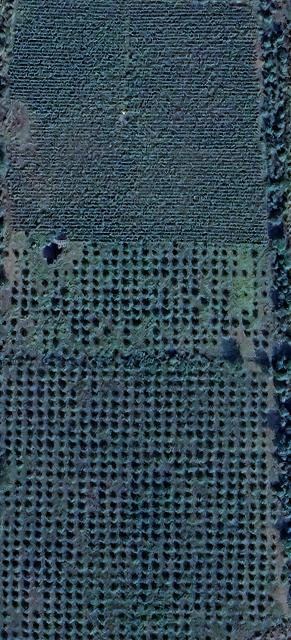Farms: (2, 243, 285, 639), (5, 0, 270, 244)
